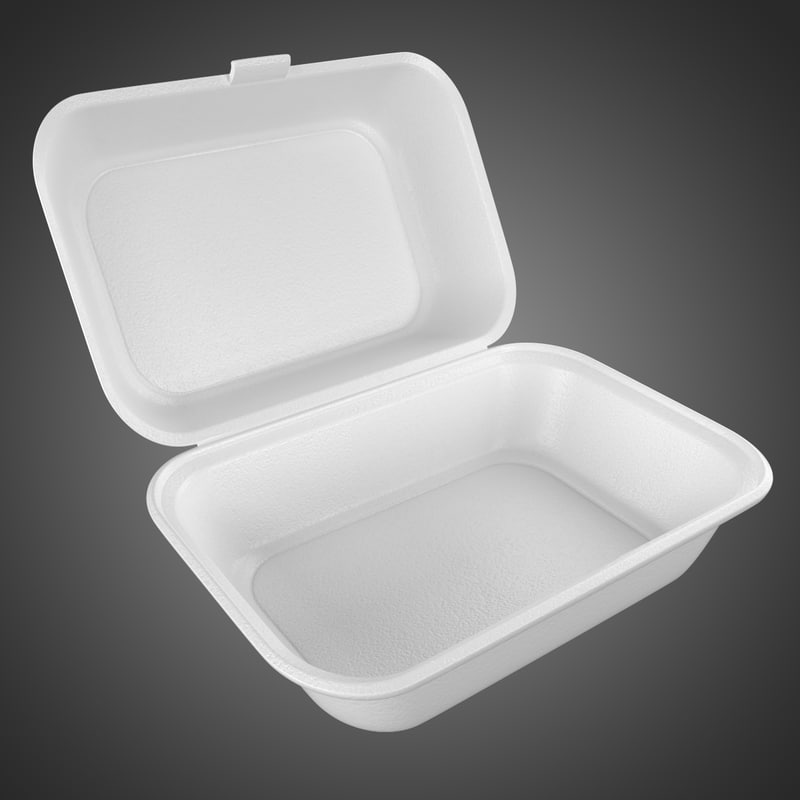styrofoam: (30, 48, 777, 735)
